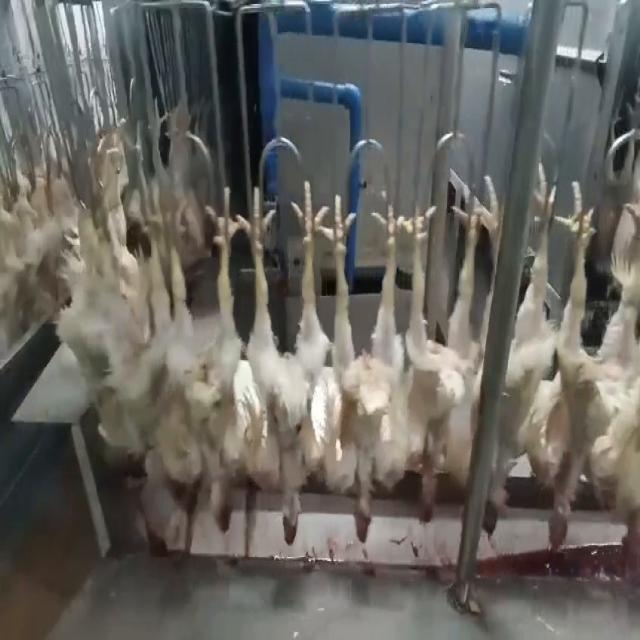chicken: (234, 177, 328, 554), (386, 198, 486, 532), (514, 172, 600, 560), (325, 197, 406, 549), (159, 183, 238, 540), (596, 190, 640, 578)
